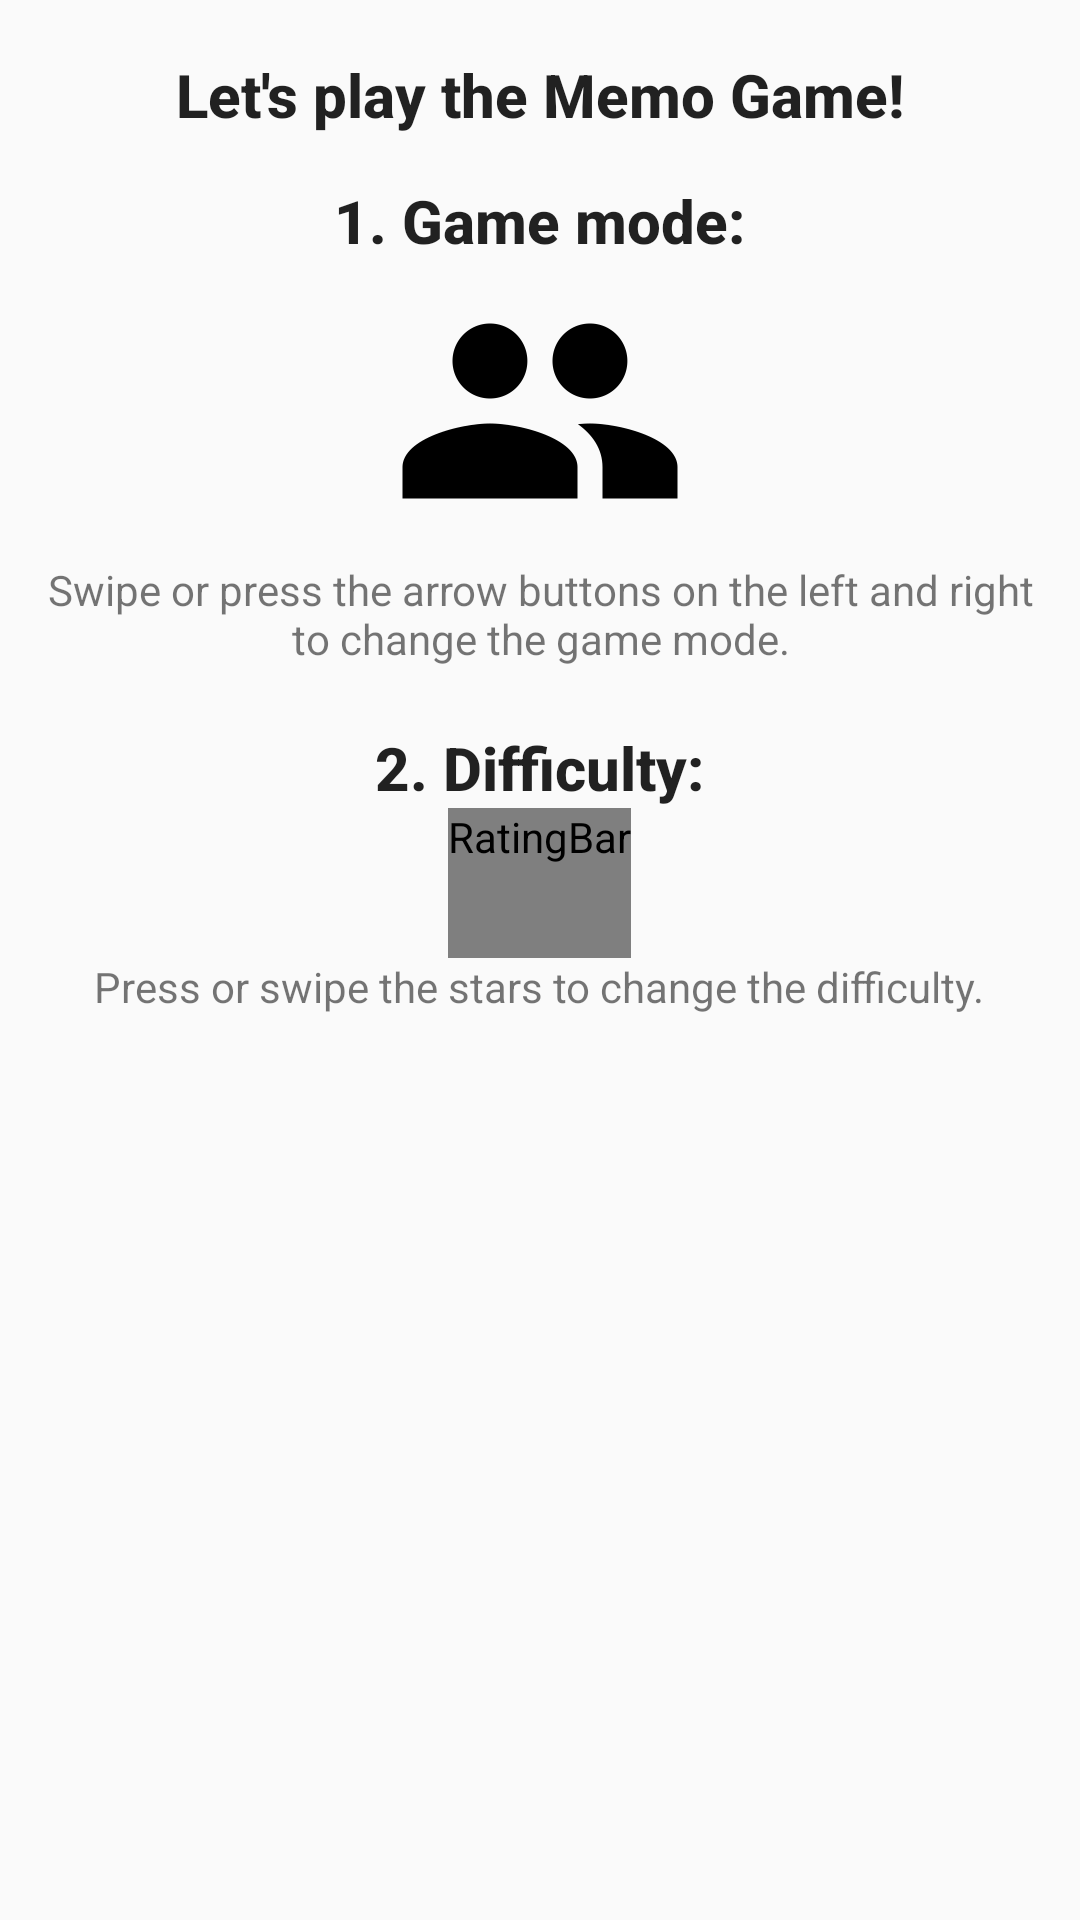

Icon click points for this 1080 x 1920 phone screenshot, format [x,y]:
people: [540,411]
